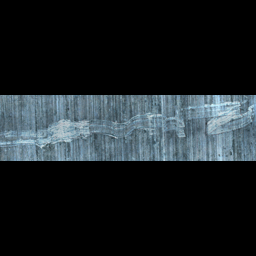d: (0, 98, 254, 151)
